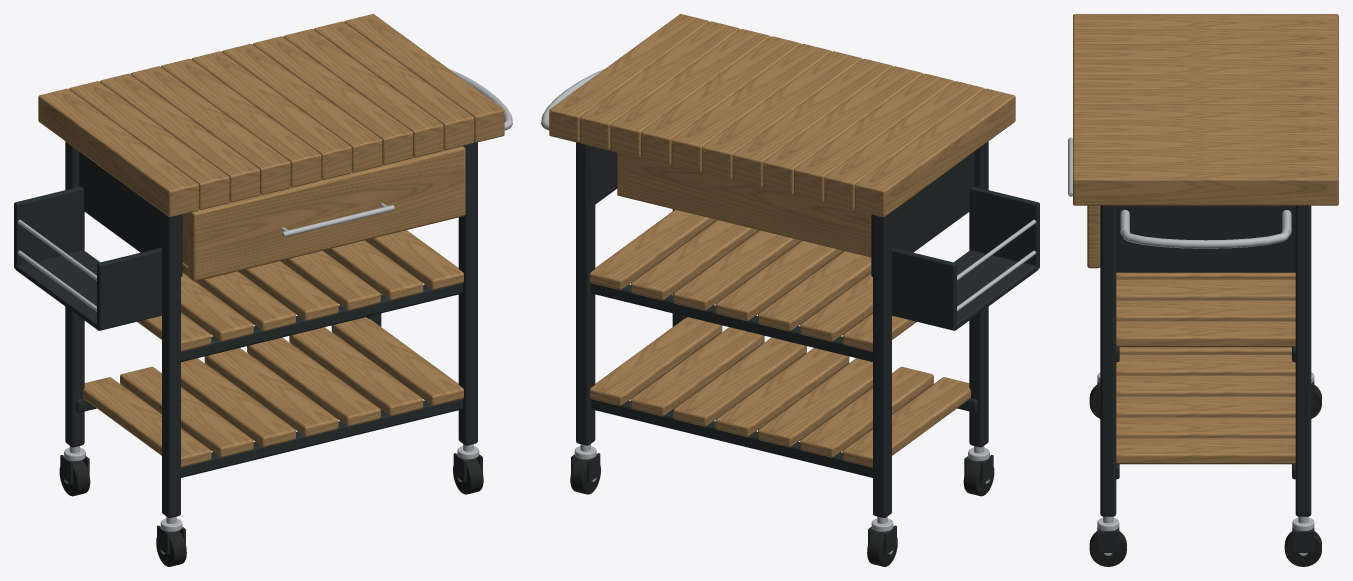
3 views of the same model, side by side, from view 1: azimuth 30°, elevation 25°; view 2: azimuth 150°, elevation 25°; view 3: azimuth 270°, elevation 25° (orthographic).
Parts seen in each view (by area): view 1: Trolley | utensil drawer | front, Butcher block | laminated oak strip, Trolley | steel corner post, Trolley | steel corner post.002, Butcher block | laminated oak strip.004, Butcher block | laminated oak strip.009, Butcher block | laminated oak strip.001, Butcher block | laminated oak strip.003, Butcher block | laminated oak strip.006, Butcher block | laminated oak strip.008, Butcher block | laminated oak strip.002, Butcher block | laminated oak strip.005 (+27 smaller); view 2: Trolley | utensil drawer | drawer rear, Butcher block | laminated oak strip, Trolley | steel corner post.001, Trolley | steel corner post.003, Butcher block | laminated oak strip.004, Butcher block | laminated oak strip.009, Butcher block | laminated oak strip.001, Butcher block | laminated oak strip.003, Butcher block | laminated oak strip.006, Butcher block | laminated oak strip.008, Butcher block | laminated oak strip.002, Butcher block | laminated oak strip.005 (+27 smaller); view 3: Butcher block | laminated oak strip.010, Trolley | drawer slide.001, Trolley | steel corner post.002, Trolley | steel corner post.003, Trolley | open oak shelf slat.006, Trolley | open oak shelf slat.013, Butcher block | laminated oak strip.008, Butcher block | laminated oak strip.002, Butcher block | laminated oak strip.005, Butcher block | laminated oak strip.006, Butcher block | laminated oak strip.007, Butcher block | laminated oak strip.009 (+18 smaller).
Part boxes in pixels (x1,y1,x2,y2): Trolley | utensil drawer | front: [188, 146, 465, 281]; Butcher block | laminated oak strip: [38, 88, 198, 217]; Trolley | steel corner post: [162, 212, 180, 517]; Trolley | steel corner post.002: [458, 142, 477, 445]; Butcher block | laminated oak strip.004: [161, 58, 321, 187]; Butcher block | laminated oak strip.009: [314, 21, 474, 150]; Butcher block | laminated oak strip.001: [69, 81, 229, 209]; Butcher block | laminated oak strip.003: [130, 66, 290, 194]; Butcher block | laminated oak strip.006: [222, 44, 382, 172]; Butcher block | laminated oak strip.008: [283, 29, 443, 157]; Butcher block | laminated oak strip.002: [99, 73, 259, 202]; Butcher block | laminated oak strip.005: [191, 51, 351, 179]; Trolley | utensil drawer | drawer rear: [622, 154, 870, 257]; Butcher block | laminated oak strip: [855, 88, 1015, 217]; Trolley | steel corner post.001: [873, 212, 891, 517]; Trolley | steel corner post.003: [576, 142, 595, 445]; Butcher block | laminated oak strip.004: [732, 58, 892, 187]; Butcher block | laminated oak strip.009: [579, 21, 739, 150]; Butcher block | laminated oak strip.001: [824, 81, 984, 209]; Butcher block | laminated oak strip.003: [763, 66, 923, 194]; Butcher block | laminated oak strip.006: [671, 44, 831, 172]; Butcher block | laminated oak strip.008: [610, 29, 770, 157]; Butcher block | laminated oak strip.002: [794, 73, 954, 202]; Butcher block | laminated oak strip.005: [702, 51, 862, 179]; Butcher block | laminated oak strip.010: [1073, 164, 1338, 205]; Trolley | drawer slide.001: [1116, 205, 1295, 272]; Trolley | steel corner post.002: [1100, 205, 1116, 516]; Trolley | steel corner post.003: [1295, 205, 1311, 516]; Trolley | open oak shelf slat.006: [1116, 438, 1295, 464]; Trolley | open oak shelf slat.013: [1116, 321, 1295, 347]; Butcher block | laminated oak strip.008: [1073, 134, 1338, 151]; Butcher block | laminated oak strip.002: [1073, 44, 1338, 60]; Butcher block | laminated oak strip.005: [1073, 89, 1338, 105]; Butcher block | laminated oak strip.006: [1073, 104, 1338, 120]; Butcher block | laminated oak strip.007: [1073, 119, 1338, 135]; Butcher block | laminated oak strip.009: [1073, 149, 1338, 166].
Bounding box in the file's own units: 1.05 × 0.9105 × 0.566.
4 materials, 1 textured.
